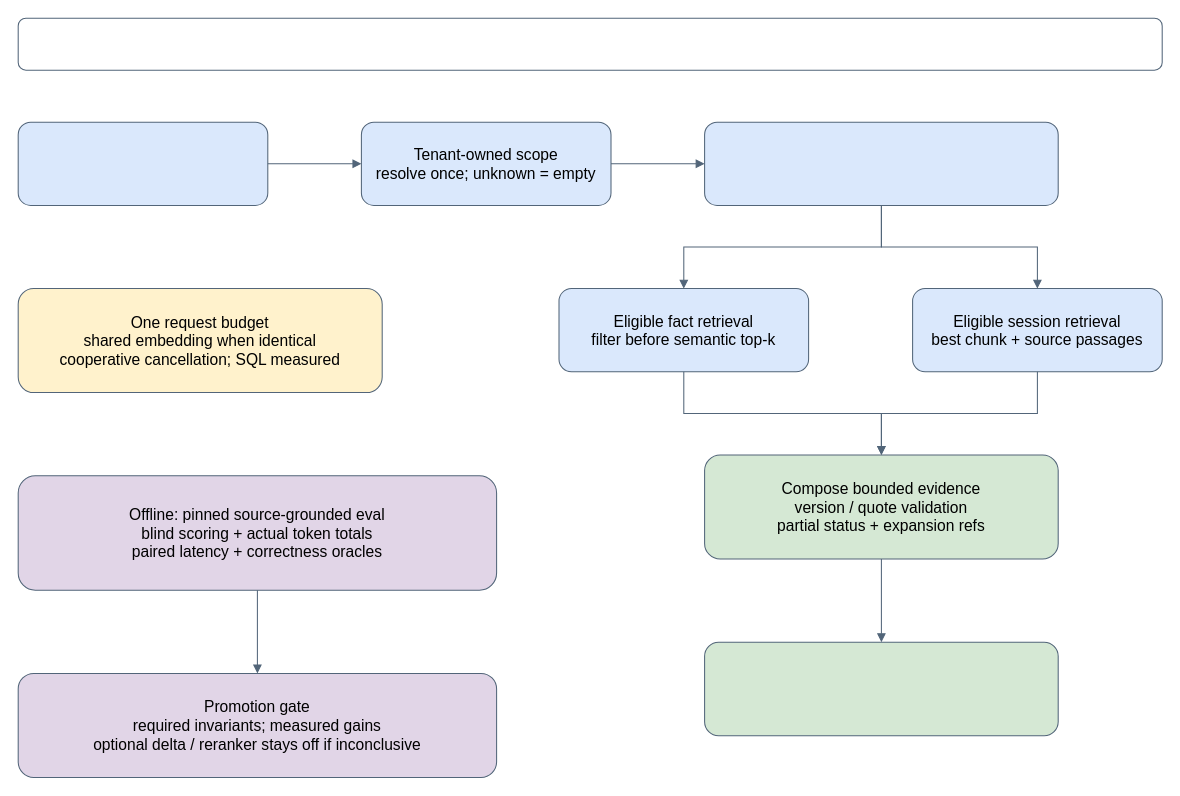
Image size: 1180x796. Some labels were removed from this diagram. The shapes that lost their labels are listed below. From the top down, each one's centre as x and y in pixels, then its label:
At point (589, 43): "NLM: bounded, source-grounded retrieval".
At point (142, 163): "Authenticated request query + optional workstream".
At point (881, 163): "Exact lookup: full value probe Other intents: parallel lanes".
At point (881, 688): "Caller receives complete records Optional seen refs reset on compaction".
